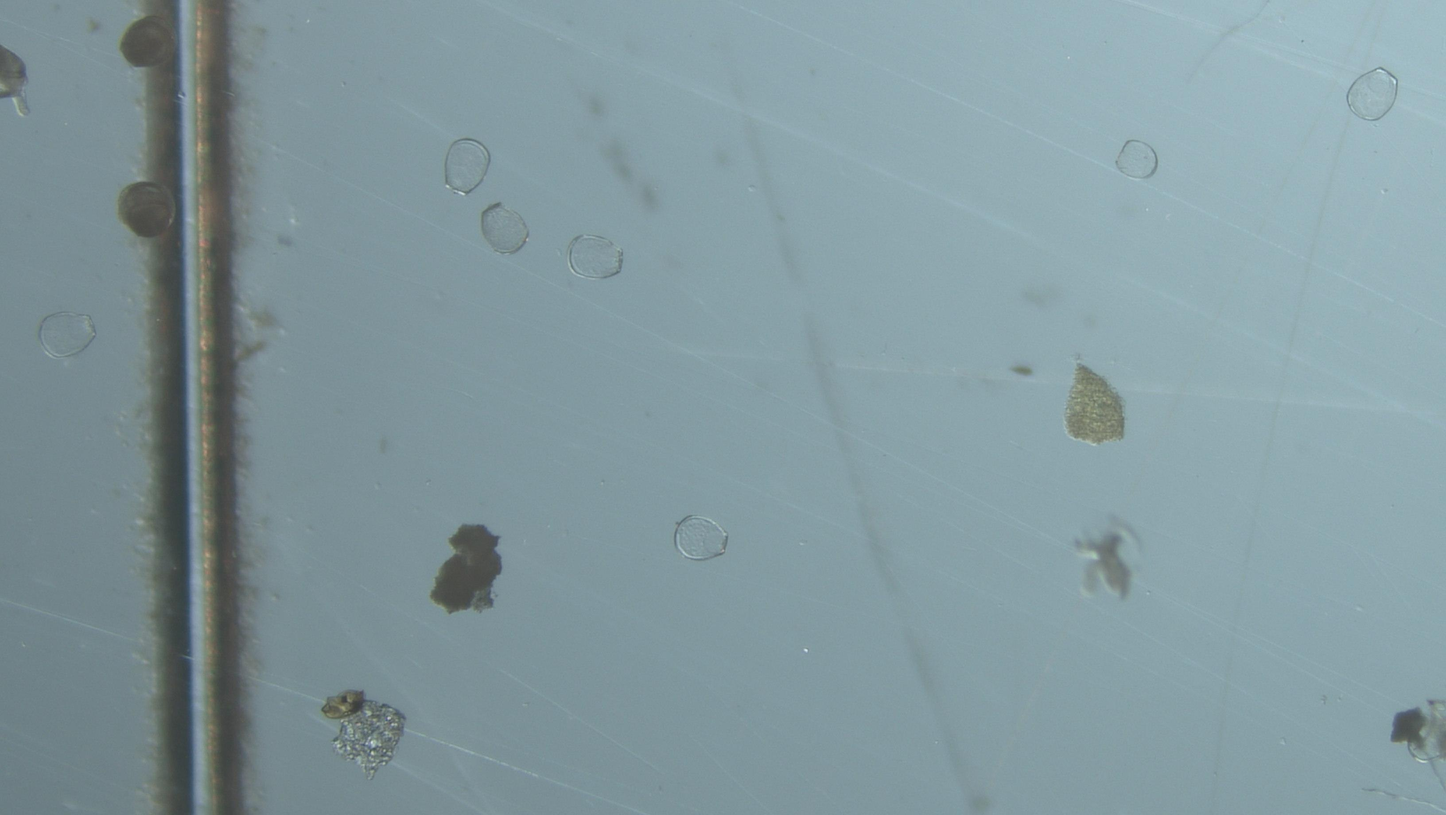dead: (1347, 68, 1398, 121), (38, 312, 95, 359), (445, 139, 490, 195), (481, 203, 529, 255), (674, 516, 728, 561), (568, 236, 623, 279), (1116, 140, 1158, 179)
live: (117, 182, 174, 238), (120, 16, 174, 66), (0, 45, 29, 116)
